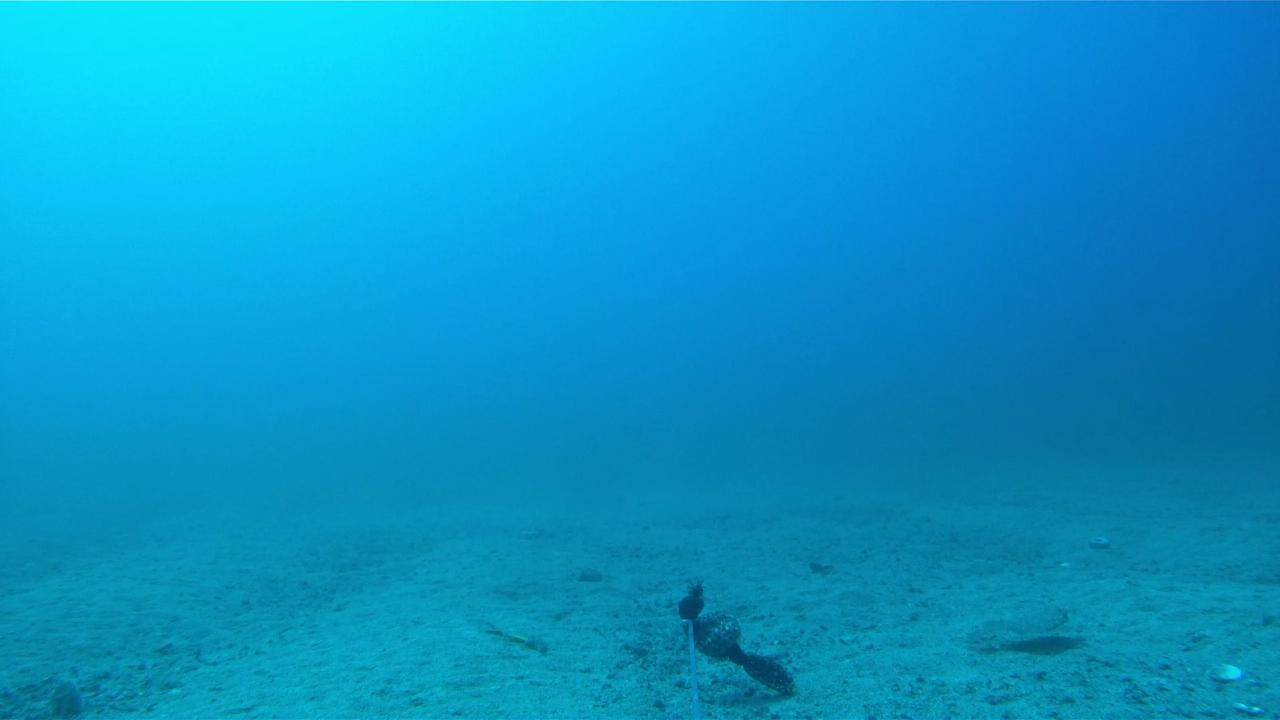bothus: (954, 604, 1080, 656)
